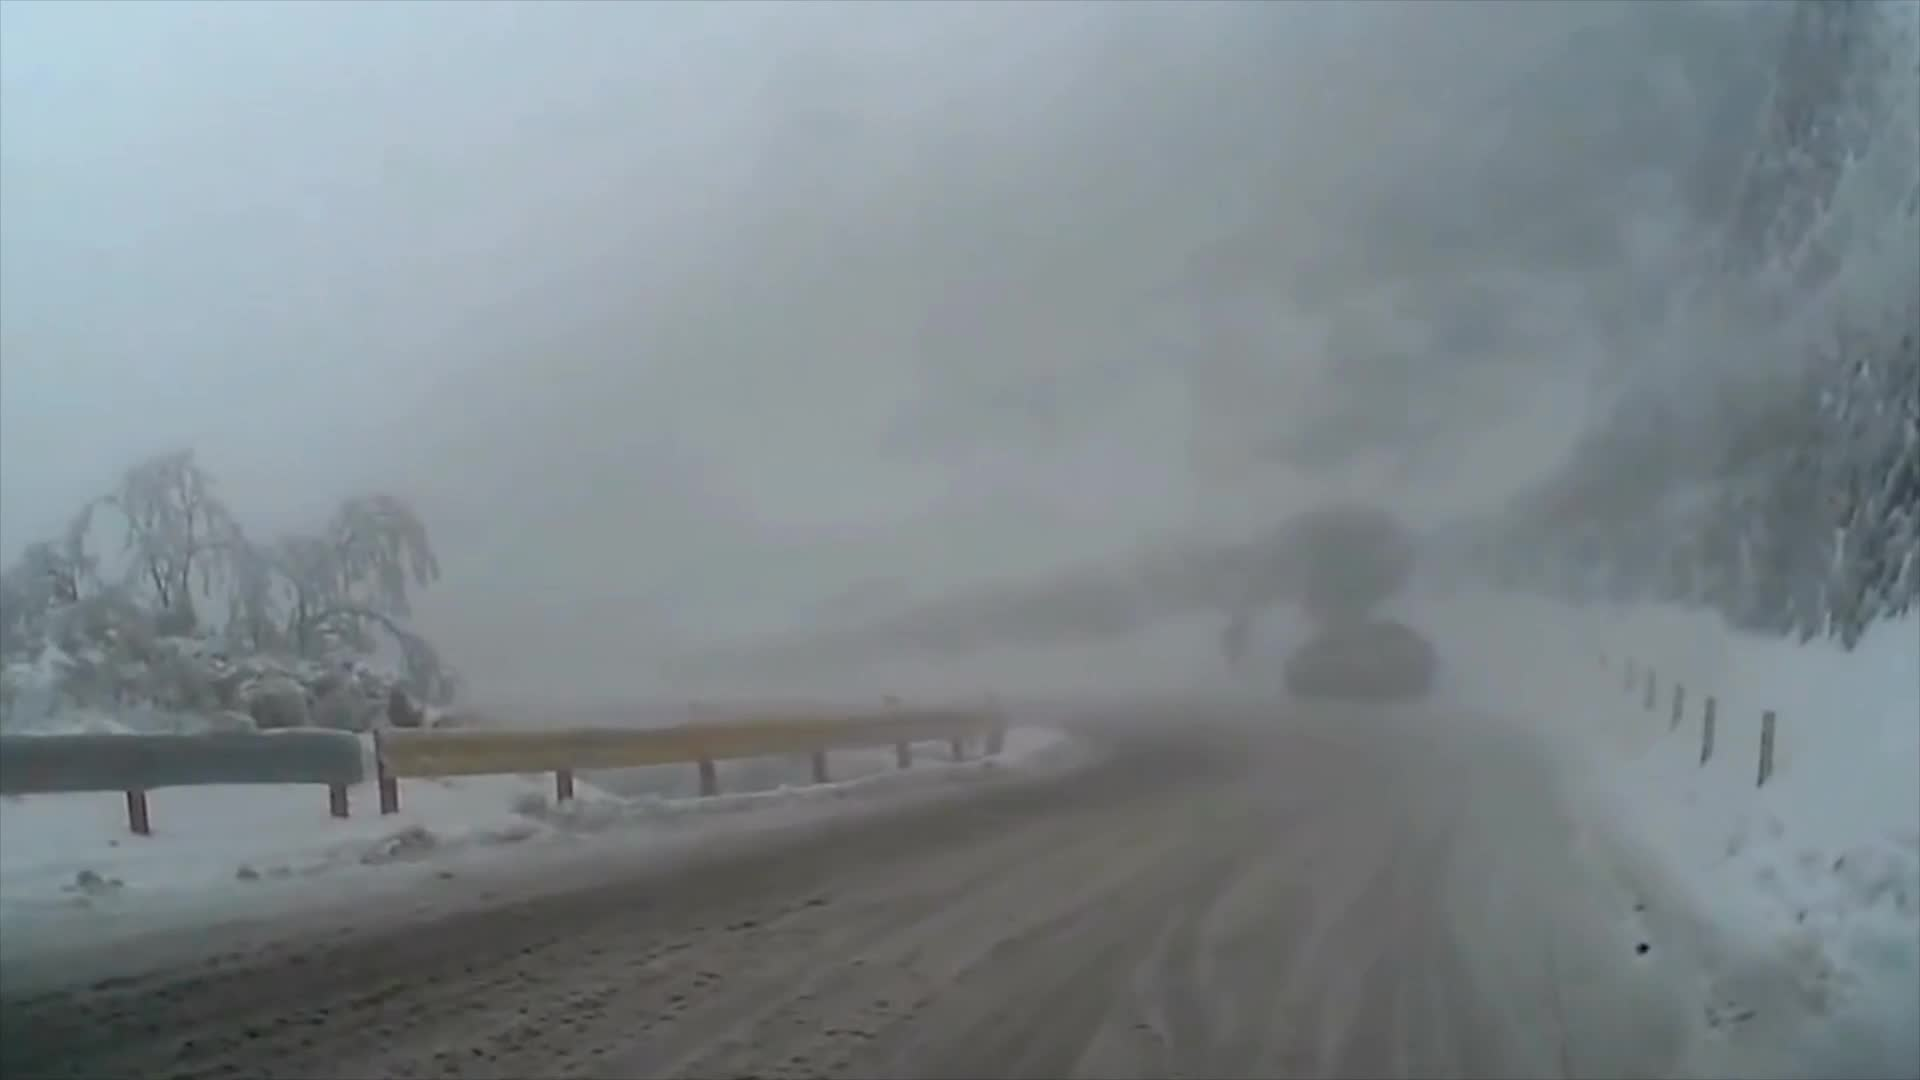vehicle: (1288, 620, 1441, 700)
